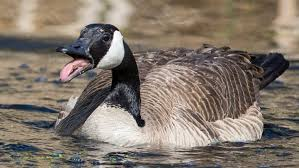goose: (48, 18, 293, 155)
